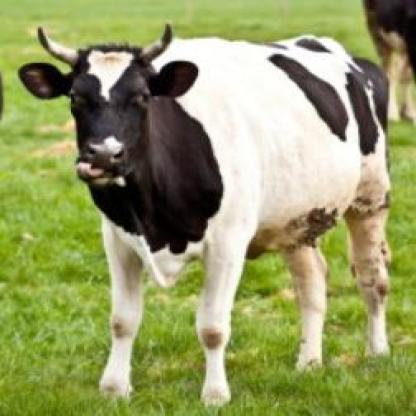cow: (18, 40, 388, 409)
